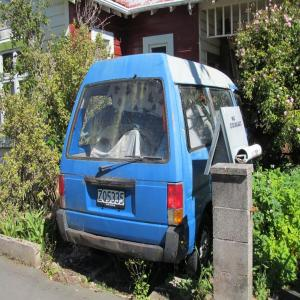Vehicle-registration-plate: (97, 189, 127, 210)
